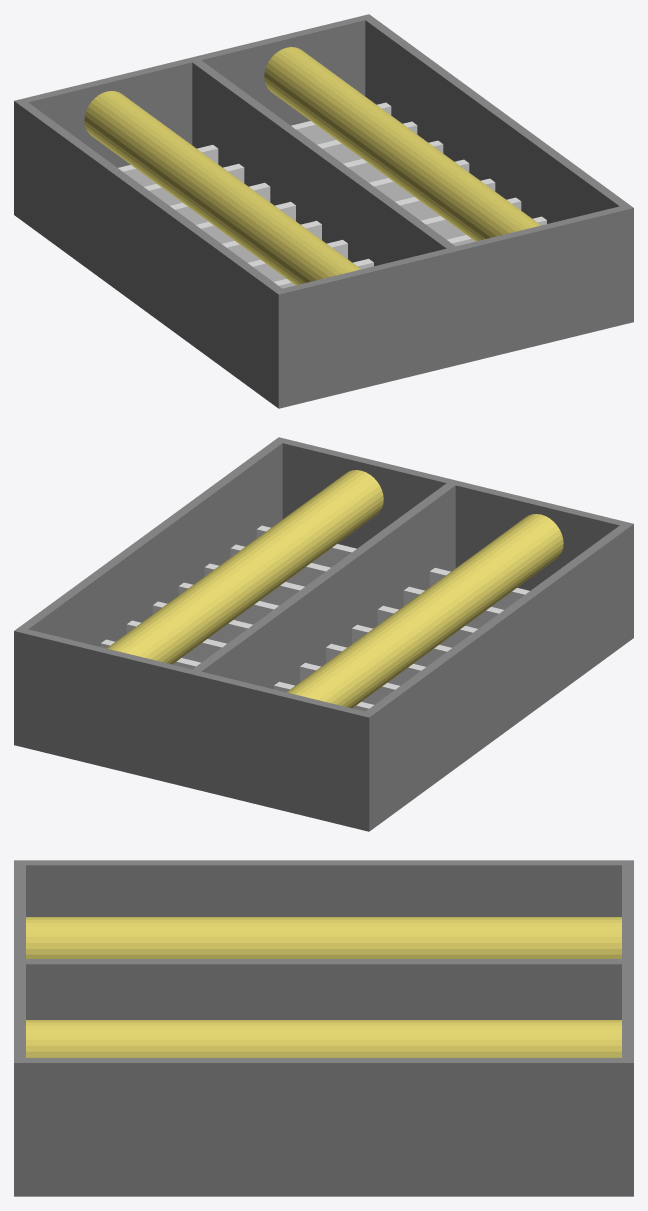
File: Lamp.fbx
3 renders of one model, top to bottom at view 1: azimuth 30°, elevation 25°; view 2: azimuth 150°, elevation 25°; view 3: azimuth 270°, elevation 25°, orthographic. The views are drawn at different scales.
Parts seen in each view (by area): view 1: Cube, Cube.002, Cube.003, Cube.013, Cylinder, Cylinder.001, Cube.001, Cube.011, Cube.010, Cube.009, Cube.007, Cube.008 (+2 smaller); view 2: Cube.001, Cube.002, Cube.013, Cube.003, Cylinder, Cylinder.001, Cube, Cube.006, Cube.005, Cube.004, Cube.008, Cube.012 (+2 smaller); view 3: Cube.003, Cube.013, Cube.002, Cylinder.001, Cylinder, Cube.001, Cube.
Part boxes in pixels (x1,y1,x2,y2): Cube: (283,206,624,406); Cube.002: (14,98,287,408); Cube.003: (360,14,633,324); Cube.013: (192,57,460,361); Cylinder: (264,47,540,241); Cylinder.001: (84,91,360,285); Cube.001: (23,16,365,167); Cube.011: (170,140,443,224); Cube.010: (144,121,417,205); Cube.009: (118,102,391,186); Cube.007: (248,197,521,281); Cube.008: (222,178,495,262); Cube.001: (23,629,364,829); Cube.002: (360,521,633,831); Cube.013: (187,480,459,789); Cube.003: (14,437,287,747); Cylinder: (107,470,383,664); Cylinder.001: (287,514,563,708); Cube: (282,439,624,590); Cube.006: (204,563,477,647); Cube.005: (230,544,503,628); Cube.004: (256,525,529,609); Cube.008: (152,601,425,685); Cube.012: (126,620,399,704); Cube.003: (14,1058,633,1196); Cube.013: (14,959,633,1019); Cube.002: (14,860,633,916); Cylinder.001: (26,917,621,958); Cylinder: (26,1020,621,1057); Cube.001: (622,865,633,1057); Cube: (14,865,25,1057).
Size of the model in its own units: 1580 by 485 by 2040.
